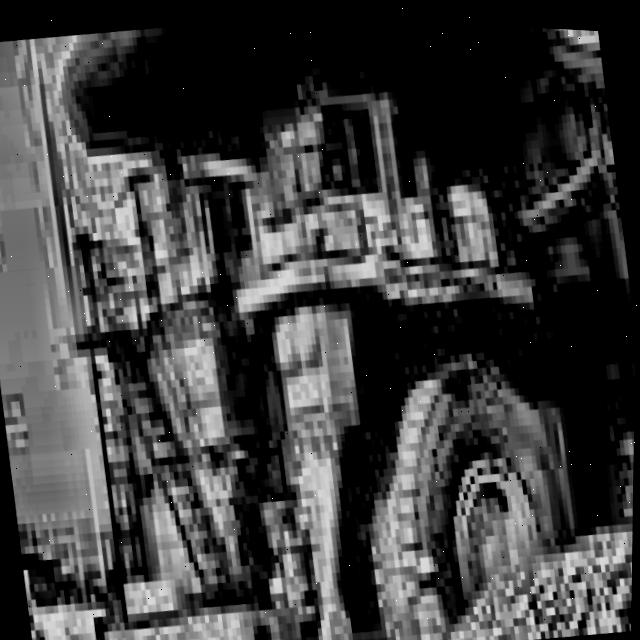dump_truck: (36, 2, 640, 640)
